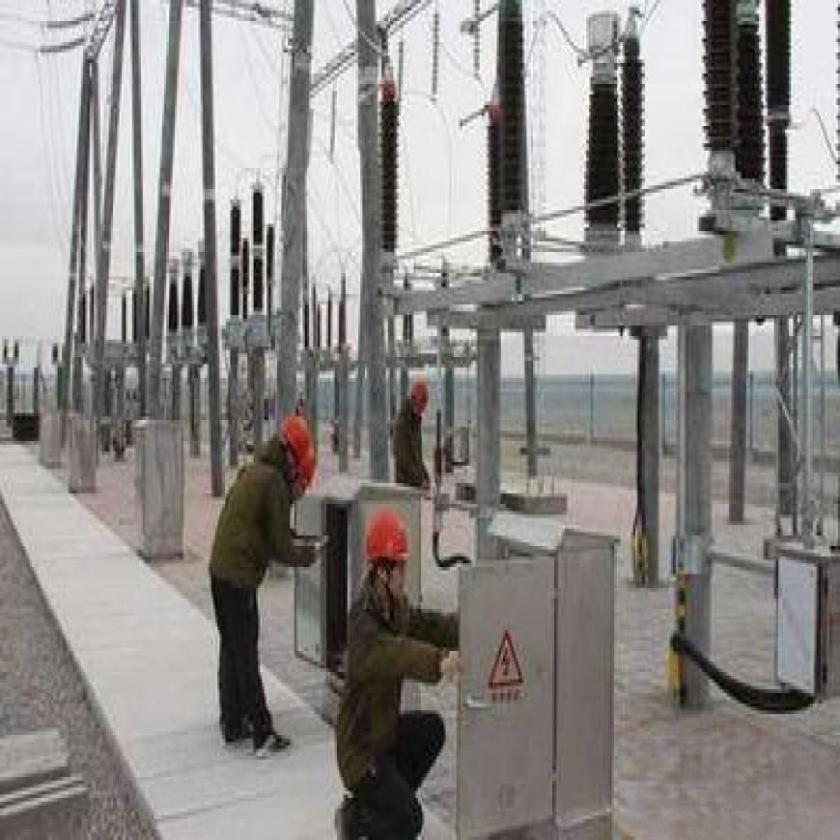Con_casco: (362, 505, 413, 612)
